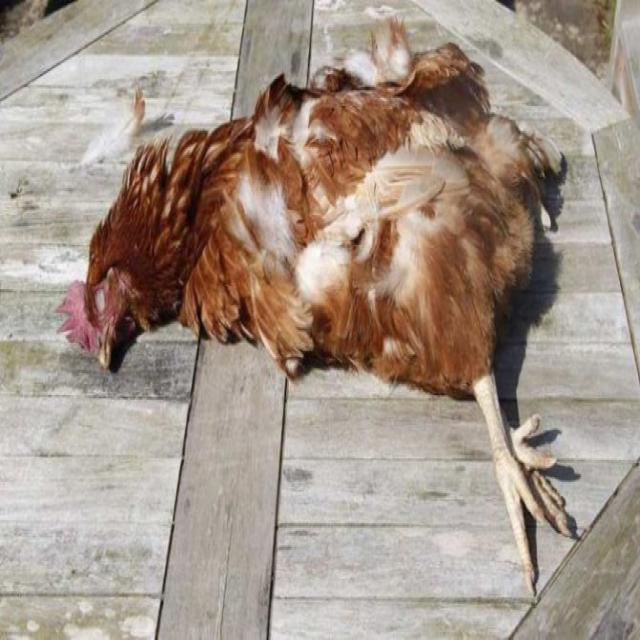Unhealthy: (59, 42, 604, 628)
